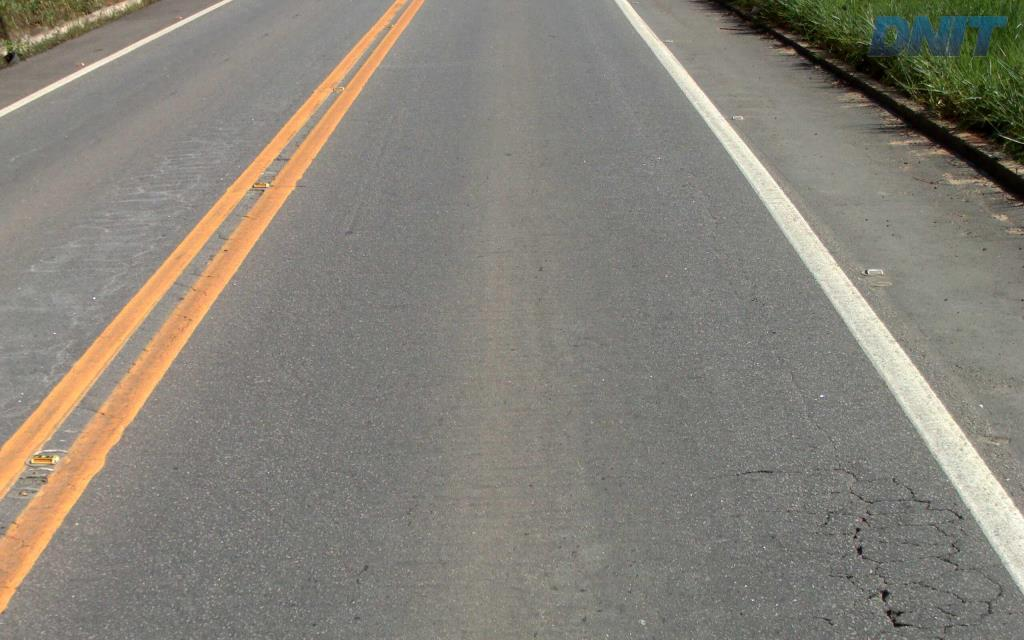crack: (859, 585, 938, 636), (934, 598, 997, 639), (854, 543, 903, 585)
